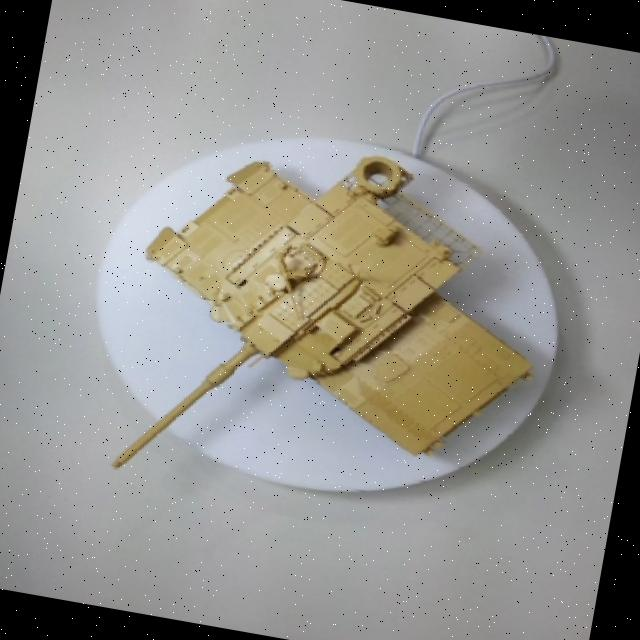korea tank: (70, 97, 586, 572)
